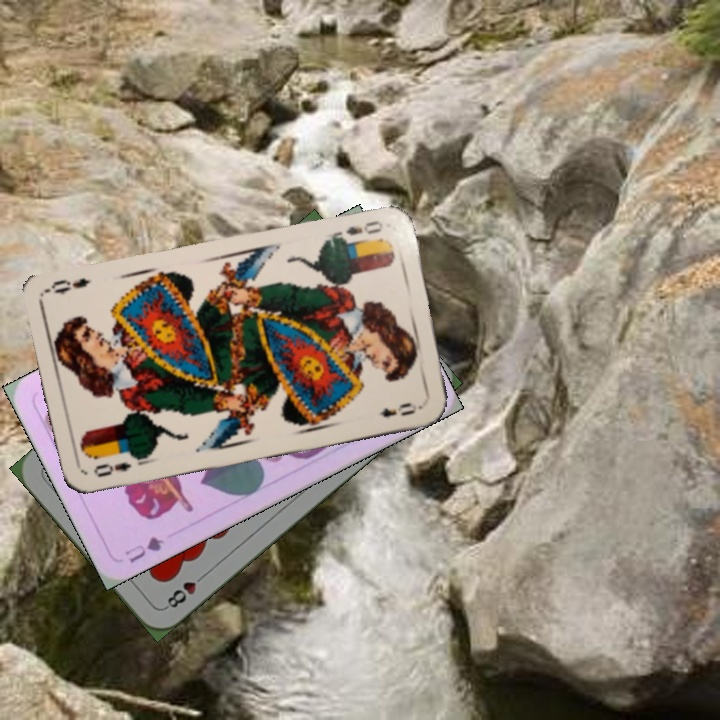EO: (330, 216, 386, 247), (89, 458, 134, 480)
GU: (121, 532, 167, 566)
H8: (161, 568, 210, 612)
